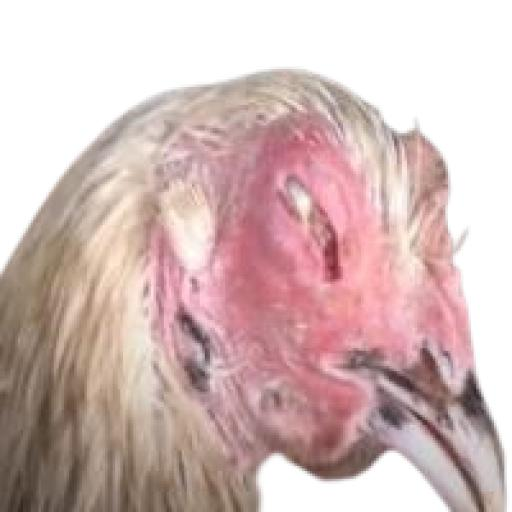disease: (218, 134, 402, 357), (258, 121, 390, 355)
